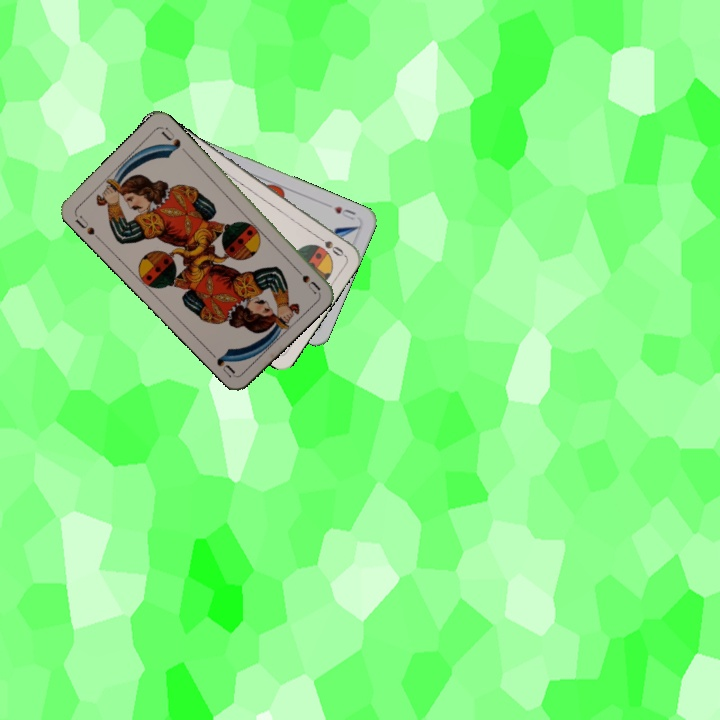HU: (330, 202, 359, 223)
SO: (311, 230, 347, 259)
SU: (289, 261, 323, 296), (71, 211, 97, 238)
